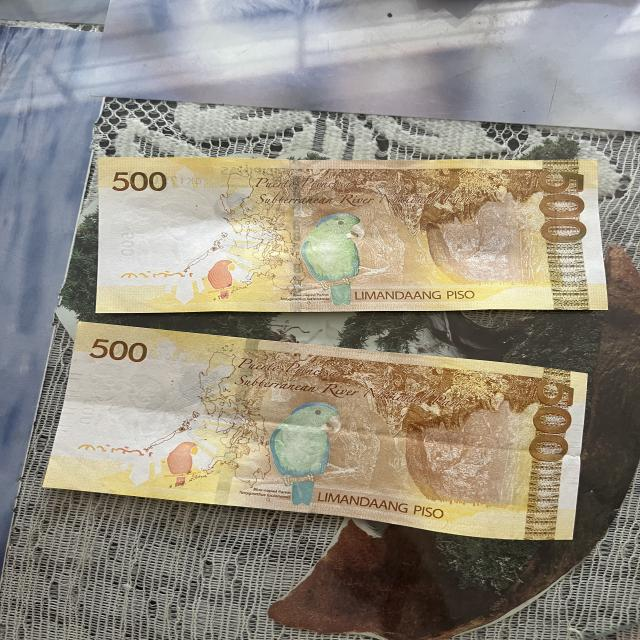500_big_parrot: (268, 401, 346, 506), (300, 212, 377, 304)
500_parrot_watermark: (163, 438, 210, 485), (205, 258, 244, 302)
value_watermark: (76, 400, 105, 425), (116, 233, 138, 258)
watermark: (112, 188, 208, 270), (87, 364, 185, 438)
